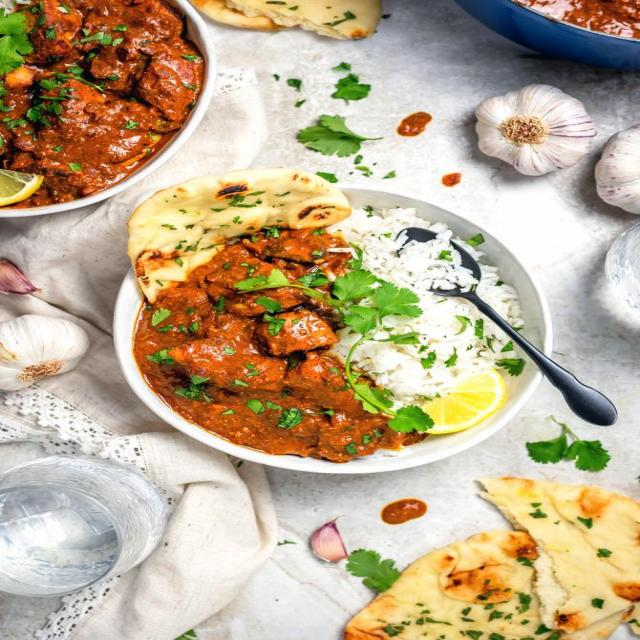chicken: (167, 267, 346, 455), (19, 18, 191, 197)
rice: (361, 208, 511, 396)
roti: (446, 496, 640, 640)
